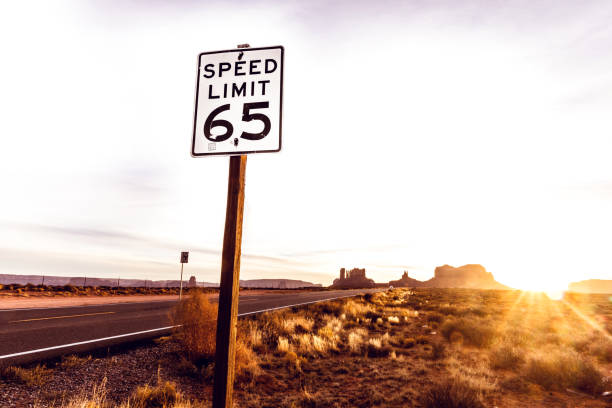SpeedLimitSign: (188, 45, 284, 157)
